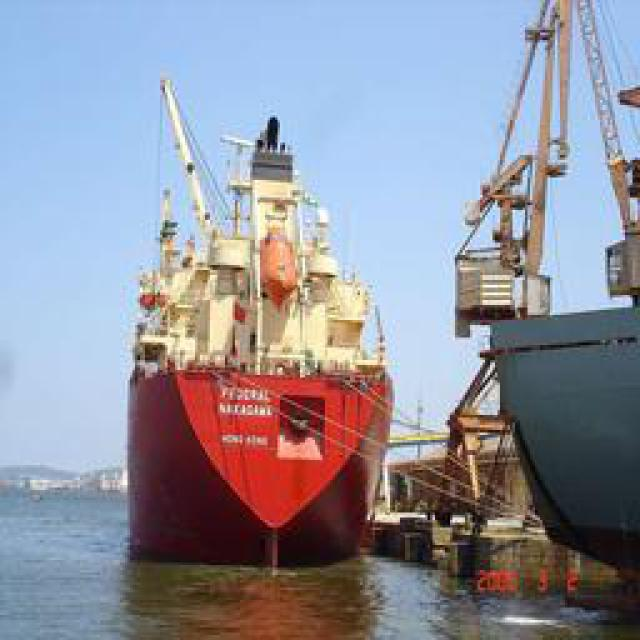Ship: (125, 44, 395, 577)
